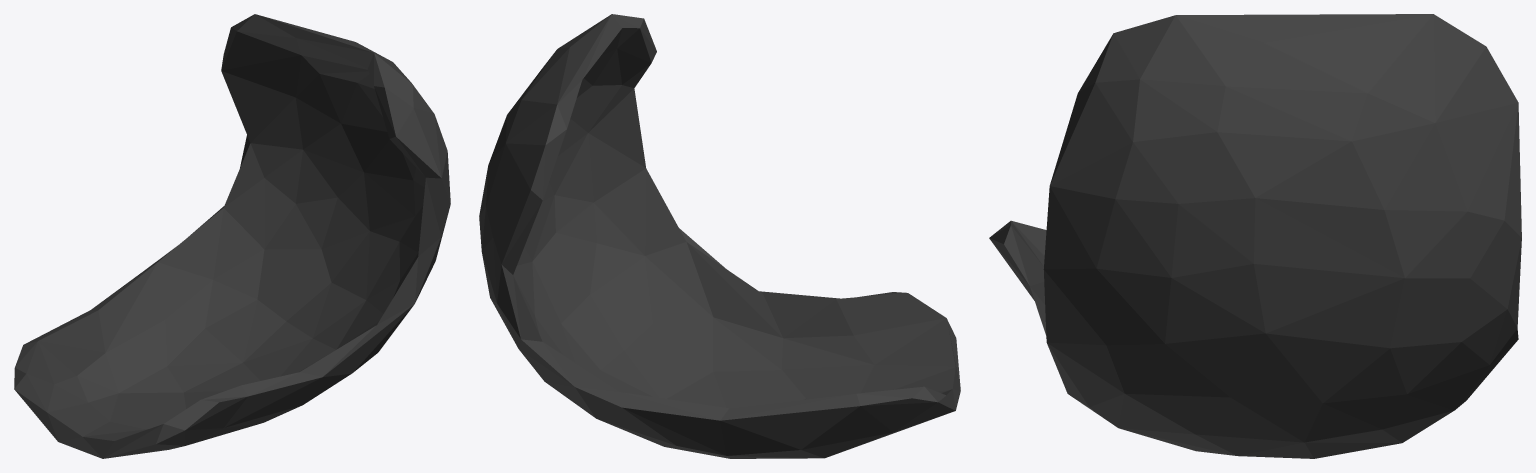
Rendered from Femur_medial_condyle.glb.
3 renders of one model, left to right at view 1: azimuth 30°, elevation 25°; view 2: azimuth 150°, elevation 25°; view 3: azimuth 270°, elevation 25°, orthographic. The views are drawn at different scales.
Parts seen in each view (by area): view 1: Femur_medial_condyle; view 2: Femur_medial_condyle; view 3: Femur_medial_condyle.
Part boxes in pixels (bbox=[...]): Femur_medial_condyle: bbox=[14, 14, 450, 458]; Femur_medial_condyle: bbox=[479, 14, 960, 458]; Femur_medial_condyle: bbox=[989, 14, 1521, 458].
Size of the model in its own units: 0.0306 by 0.025 by 0.0232.
Materials: 1 (1 with a texture image).
